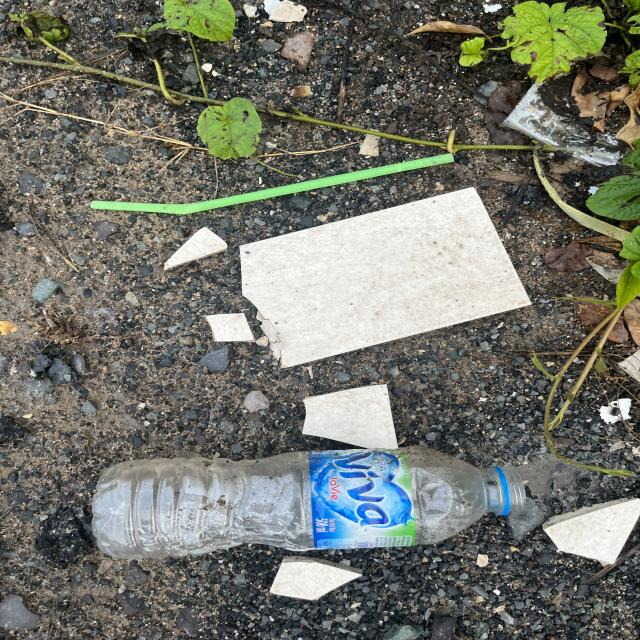bottle: (91, 443, 527, 560)
drinking straw: (89, 151, 456, 216)
